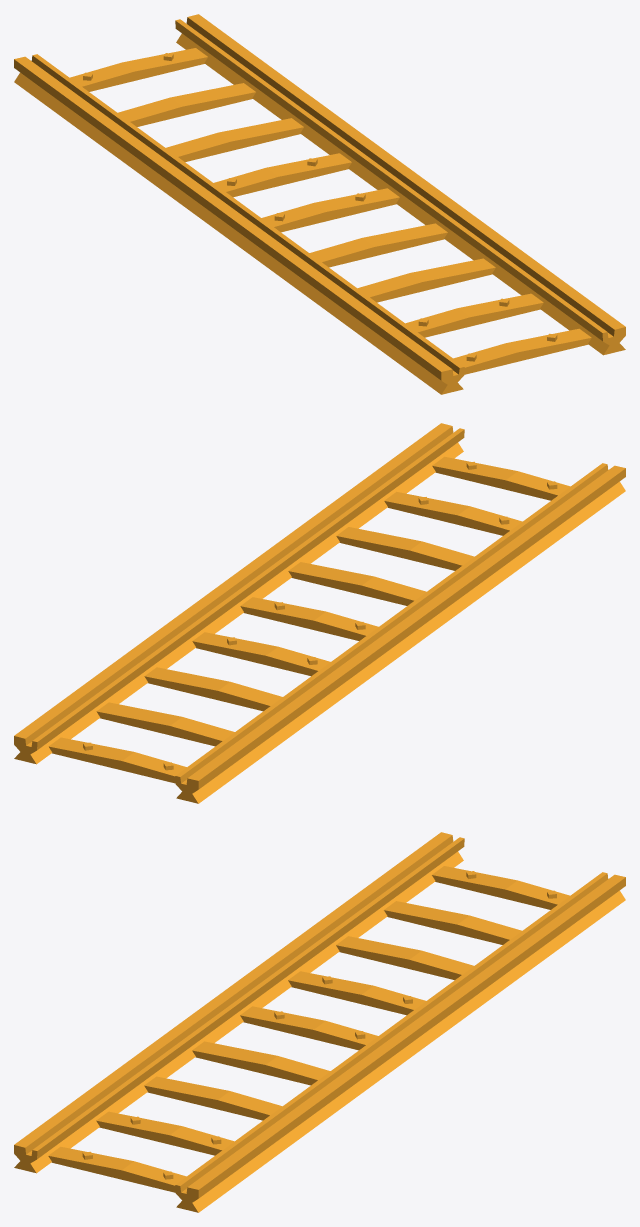
The model's file is SM_Rail_Tram_5m.fbx.
The picture shows the model from 3 angles, top to bottom: view 1: azimuth 30°, elevation 25°; view 2: azimuth 150°, elevation 25°; view 3: azimuth 330°, elevation 25°; orthographic projection.
Parts seen in each view (by area): view 1: rail-tram-5m; view 2: rail-tram-5m; view 3: rail-tram-5m.
Boxes of the visible parts, x1=… form: rail-tram-5m: x1=14, y1=14, x2=625, y2=394; rail-tram-5m: x1=14, y1=423, x2=625, y2=803; rail-tram-5m: x1=14, y1=832, x2=625, y2=1212.
Size of the model in its own units: 1.25 by 0.1529 by 5.
